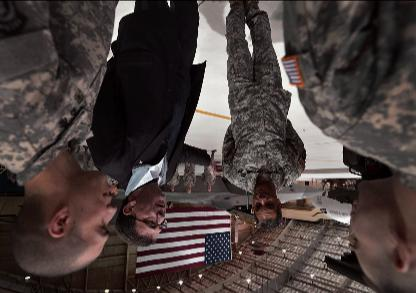F18: (112, 175, 332, 229)
